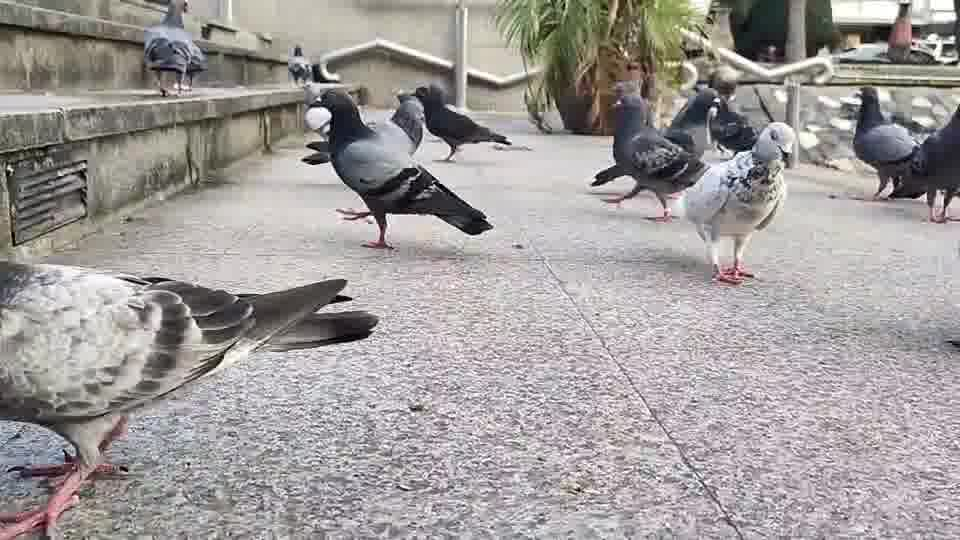Pigeon: (0, 258, 379, 537), (301, 87, 494, 249), (683, 120, 794, 285), (589, 84, 711, 223), (887, 103, 959, 223), (408, 83, 516, 162), (850, 85, 922, 201), (142, 0, 207, 97), (286, 45, 313, 87)
